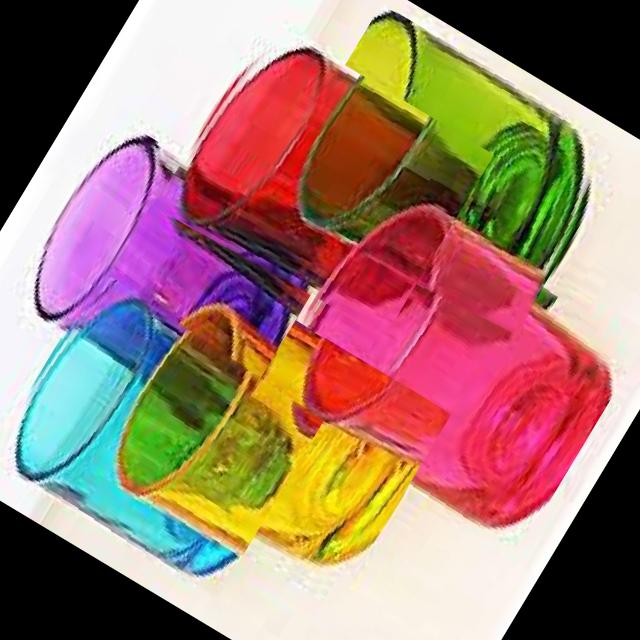Glass: (253, 178, 640, 552), (261, 2, 629, 354), (88, 264, 452, 607), (152, 16, 494, 342), (0, 268, 331, 597), (6, 116, 339, 436)
